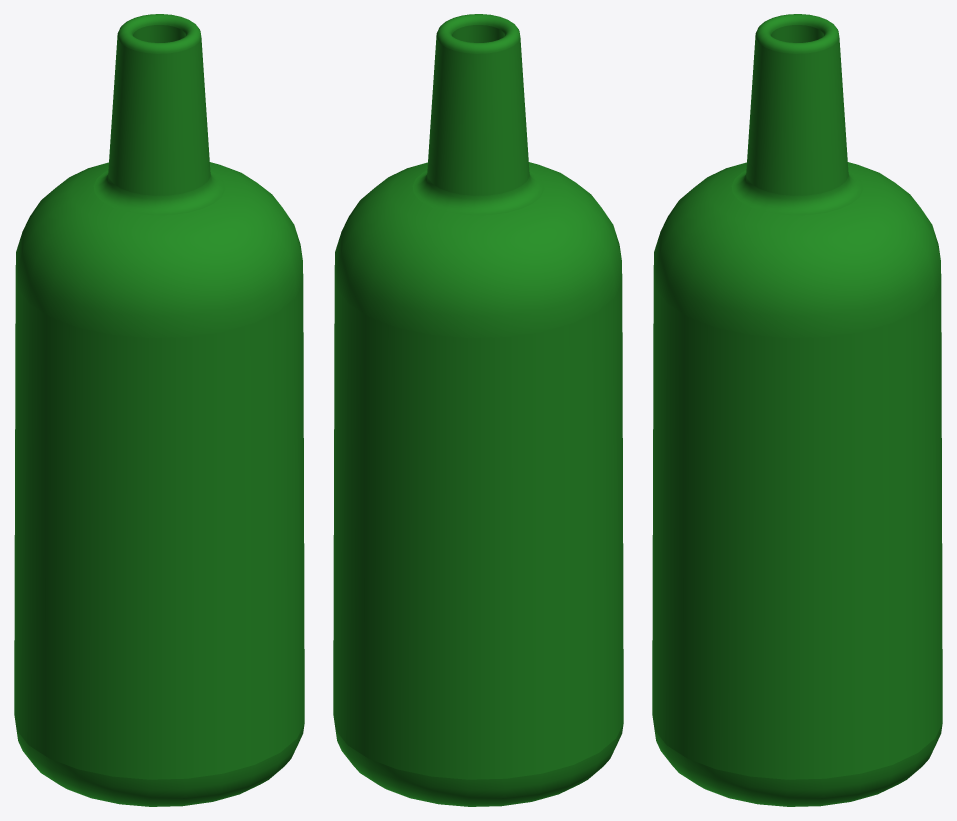
3 views of the same model, side by side, from view 1: azimuth 30°, elevation 25°; view 2: azimuth 150°, elevation 25°; view 3: azimuth 270°, elevation 25° (orthographic).
Visible parts, largest first — view 1: SketchUp; view 2: SketchUp; view 3: SketchUp.
Part boxes in pixels (x1,y1,x2,y2): SketchUp: (14,14,304,806); SketchUp: (333,14,623,806); SketchUp: (652,14,942,806).
Bounding box in the file's own units: 51.41 × 51.41 × 143.
